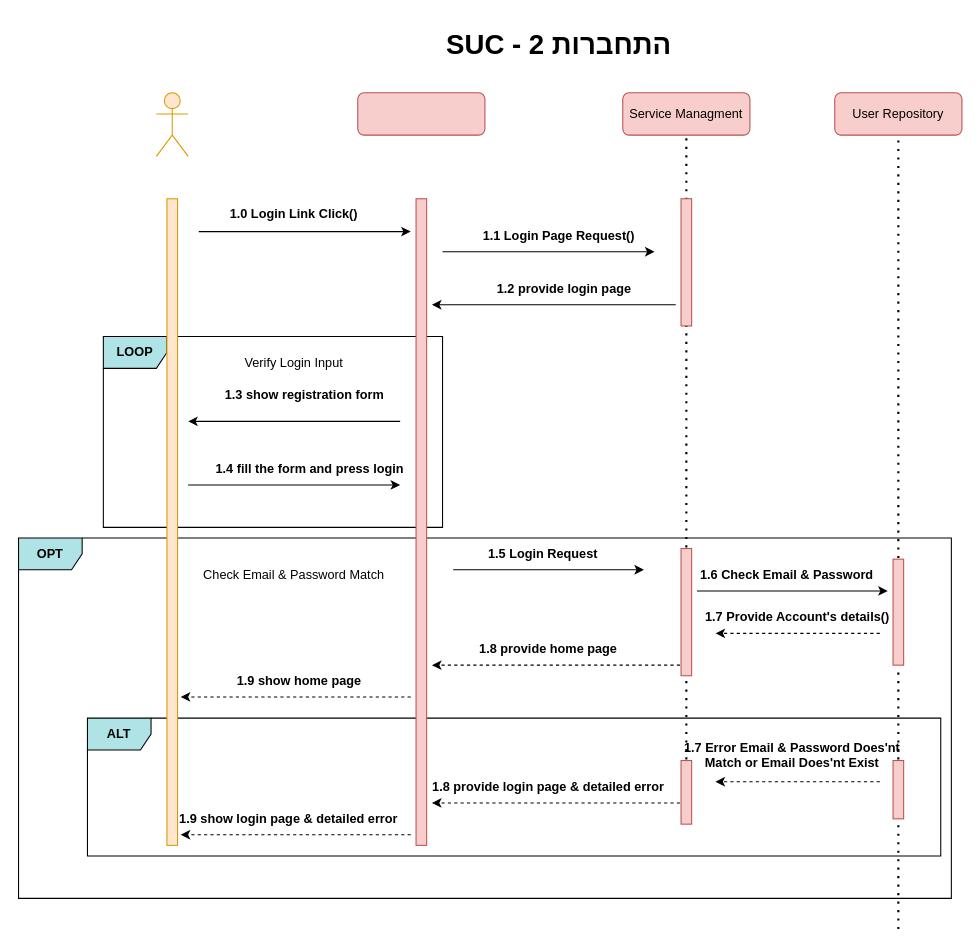
The diagram is 980 pixels wide and 949 high, and some of its shapes have lost their labels. The centre of each missing label's shape, as x and y in pixels:
"GUI" goes at (x=421, y=113).
"unregistered user" goes at (x=171, y=124).
